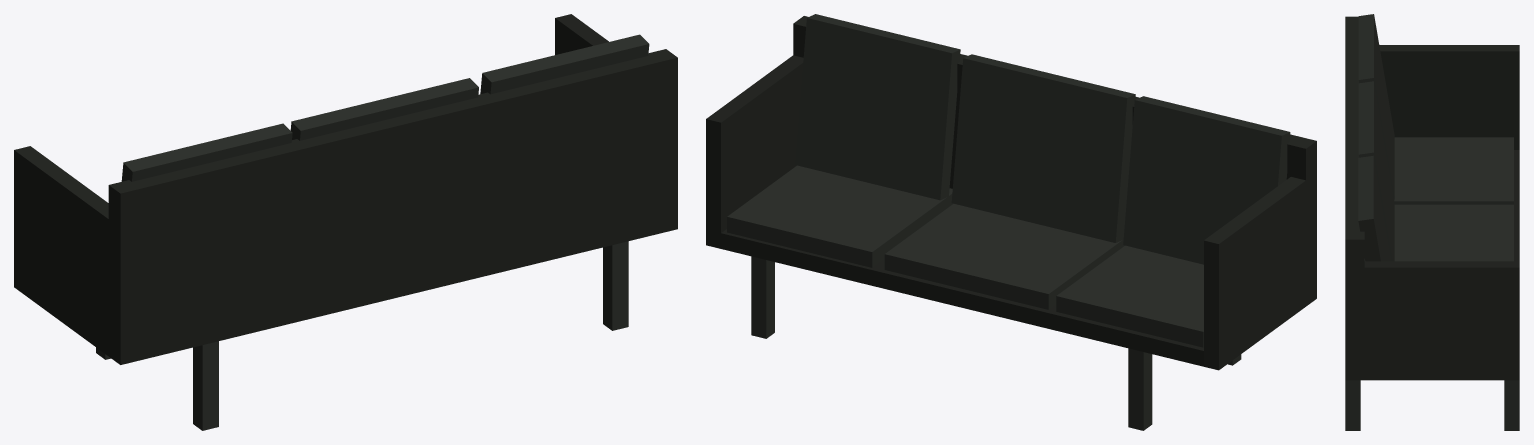
3 renders of one model, left to right at view 1: azimuth 30°, elevation 25°; view 2: azimuth 150°, elevation 25°; view 3: azimuth 270°, elevation 25°, orthographic. The views are drawn at different scales.
Parts seen in each view (by area): view 1: 341228f8-a4c3-860e-3da8-2c5503216557, ced3d17a-720b-d8a8-4773-bd61155cc810, 1ae8da26-60f3-6548-2805-11384ddcfea0, a21bf0f2-477d-1c12-8ad0-914abdc64a7c, 113b6047-5e14-9d67-6849-f279ecfe2e0f, 326b45ac-7b6f-2dbb-577c-819a11834134, a2c22d0b-6590-fd35-f11c-66e60c609305, 79e2bbb0-c6ce-4fc2-9217-c9889e4cc48a; view 2: 1ae8da26-60f3-6548-2805-11384ddcfea0, a21bf0f2-477d-1c12-8ad0-914abdc64a7c, 113b6047-5e14-9d67-6849-f279ecfe2e0f, 569ba0f5-93f9-2cbd-0e7f-1e802ae2e543, ced3d17a-720b-d8a8-4773-bd61155cc810, d5484ebe-3107-d782-2826-4f7cdddace36, 79e2bbb0-c6ce-4fc2-9217-c9889e4cc48a, 6574a891-8440-cb8f-f037-19822518f1e3, 1bf761f0-0898-b045-8a93-bf0cb53145b4, 341228f8-a4c3-860e-3da8-2c5503216557, 5967355d-df73-49cf-c657-a24022569ba1, 5d6f09fa-bc86-d701-a2bd-ff5b25db7fb2; view 3: 79e2bbb0-c6ce-4fc2-9217-c9889e4cc48a, ced3d17a-720b-d8a8-4773-bd61155cc810, 6574a891-8440-cb8f-f037-19822518f1e3, 569ba0f5-93f9-2cbd-0e7f-1e802ae2e543, 341228f8-a4c3-860e-3da8-2c5503216557, 1ae8da26-60f3-6548-2805-11384ddcfea0, 113b6047-5e14-9d67-6849-f279ecfe2e0f, a21bf0f2-477d-1c12-8ad0-914abdc64a7c, 5d6f09fa-bc86-d701-a2bd-ff5b25db7fb2, 326b45ac-7b6f-2dbb-577c-819a11834134, 1bf761f0-0898-b045-8a93-bf0cb53145b4.
Boxes of the visible parts, x1=… form: 341228f8-a4c3-860e-3da8-2c5503216557: x1=108, y1=49, x2=677, y2=364; ced3d17a-720b-d8a8-4773-bd61155cc810: x1=14, y1=146, x2=108, y2=355; 1ae8da26-60f3-6548-2805-11384ddcfea0: x1=290, y1=78, x2=478, y2=140; a21bf0f2-477d-1c12-8ad0-914abdc64a7c: x1=480, y1=34, x2=649, y2=94; 113b6047-5e14-9d67-6849-f279ecfe2e0f: x1=121, y1=123, x2=292, y2=181; 326b45ac-7b6f-2dbb-577c-819a11834134: x1=603, y1=241, x2=628, y2=330; a2c22d0b-6590-fd35-f11c-66e60c609305: x1=193, y1=341, x2=218, y2=430; 79e2bbb0-c6ce-4fc2-9217-c9889e4cc48a: x1=555, y1=14, x2=608, y2=54; 1ae8da26-60f3-6548-2805-11384ddcfea0: x1=951, y1=54, x2=1135, y2=242; a21bf0f2-477d-1c12-8ad0-914abdc64a7c: x1=795, y1=14, x2=960, y2=200; 113b6047-5e14-9d67-6849-f279ecfe2e0f: x1=1123, y1=96, x2=1290, y2=264; 569ba0f5-93f9-2cbd-0e7f-1e802ae2e543: x1=884, y1=203, x2=1124, y2=309; ced3d17a-720b-d8a8-4773-bd61155cc810: x1=1204, y1=177, x2=1305, y2=370; d5484ebe-3107-d782-2826-4f7cdddace36: x1=727, y1=165, x2=952, y2=267; 79e2bbb0-c6ce-4fc2-9217-c9889e4cc48a: x1=706, y1=55, x2=803, y2=248; 6574a891-8440-cb8f-f037-19822518f1e3: x1=1056, y1=245, x2=1203, y2=347; 1bf761f0-0898-b045-8a93-bf0cb53145b4: x1=721, y1=229, x2=1203, y2=366; 341228f8-a4c3-860e-3da8-2c5503216557: x1=793, y1=16, x2=1316, y2=306; 5967355d-df73-49cf-c657-a24022569ba1: x1=1128, y1=348, x2=1152, y2=430; 5d6f09fa-bc86-d701-a2bd-ff5b25db7fb2: x1=751, y1=256, x2=774, y2=338; 79e2bbb0-c6ce-4fc2-9217-c9889e4cc48a: x1=1364, y1=261, x2=1519, y2=380; ced3d17a-720b-d8a8-4773-bd61155cc810: x1=1379, y1=45, x2=1519, y2=149; 6574a891-8440-cb8f-f037-19822518f1e3: x1=1394, y1=137, x2=1513, y2=204; 569ba0f5-93f9-2cbd-0e7f-1e802ae2e543: x1=1364, y1=204, x2=1513, y2=261; 341228f8-a4c3-860e-3da8-2c5503216557: x1=1345, y1=16, x2=1364, y2=380; 1ae8da26-60f3-6548-2805-11384ddcfea0: x1=1358, y1=81, x2=1394, y2=261; 113b6047-5e14-9d67-6849-f279ecfe2e0f: x1=1358, y1=14, x2=1394, y2=199; a21bf0f2-477d-1c12-8ad0-914abdc64a7c: x1=1358, y1=155, x2=1391, y2=261; 5d6f09fa-bc86-d701-a2bd-ff5b25db7fb2: x1=1504, y1=380, x2=1519, y2=430; 326b45ac-7b6f-2dbb-577c-819a11834134: x1=1345, y1=380, x2=1360, y2=430; 1bf761f0-0898-b045-8a93-bf0cb53145b4: x1=1514, y1=150, x2=1519, y2=261.
Size of the model in its own units: 0.425 by 0.1987 by 0.1406.
Materials: 1 (1 with a texture image).
